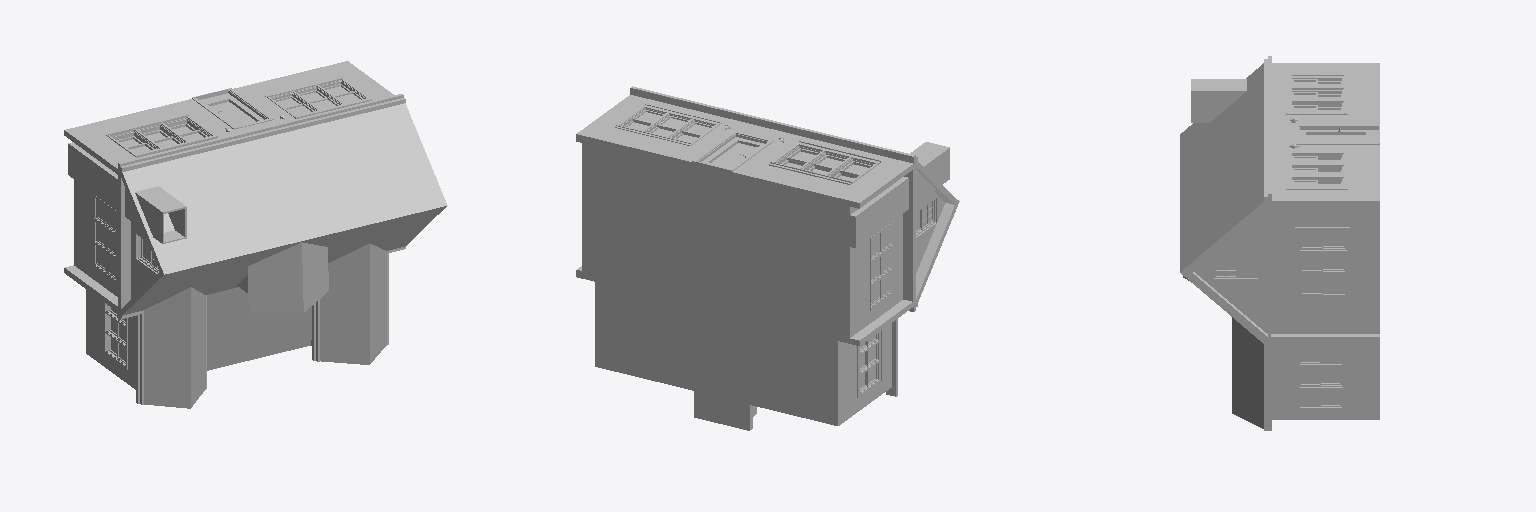
Rendered from maison3.obj.
The picture shows the model from 3 angles: view 1: azimuth 30°, elevation 25°; view 2: azimuth 150°, elevation 25°; view 3: azimuth 270°, elevation 25°; orthographic projection.
Size of the model in its own units: 1412 by 1246 by 863.